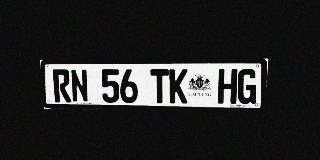5: (101, 69, 120, 103)
6: (119, 69, 138, 103)
G: (237, 69, 258, 104)
H: (217, 69, 238, 104)
K: (169, 69, 188, 103)
N: (70, 69, 89, 102)
R: (52, 69, 71, 102)
T: (150, 69, 169, 103)
